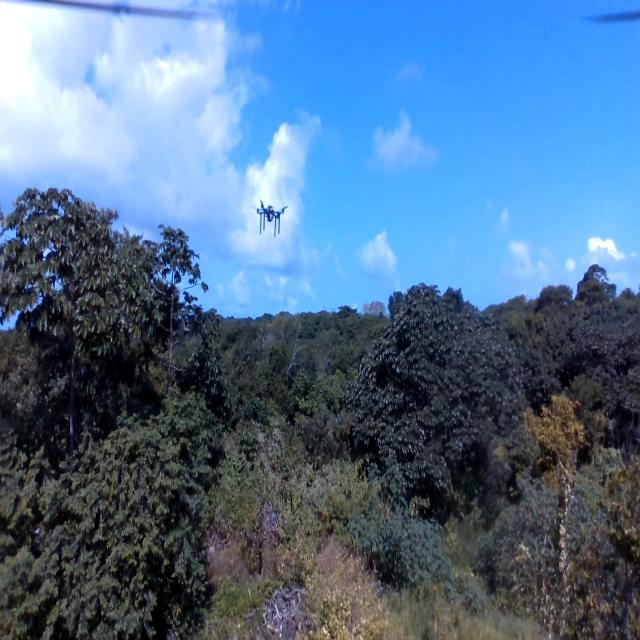-uav-: (247, 190, 291, 243)
